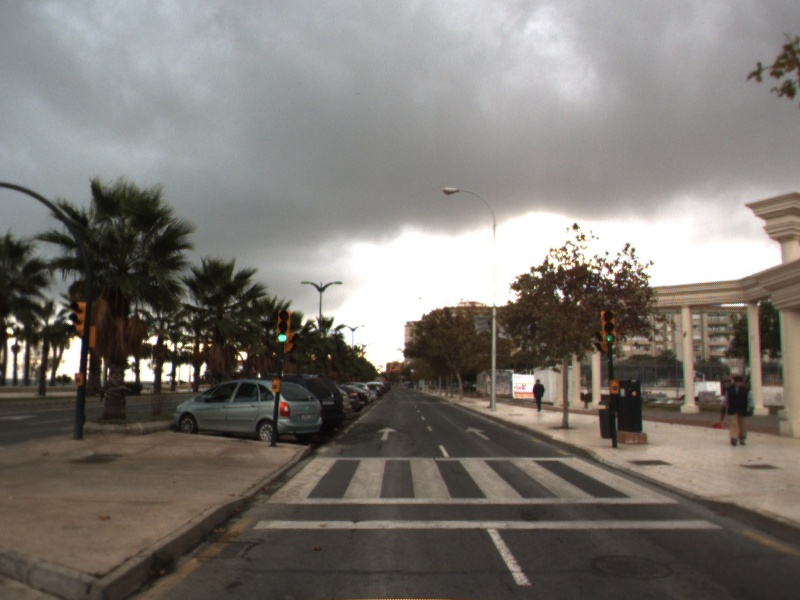STRAIGHT: (462, 425, 493, 442), (375, 425, 400, 443)
